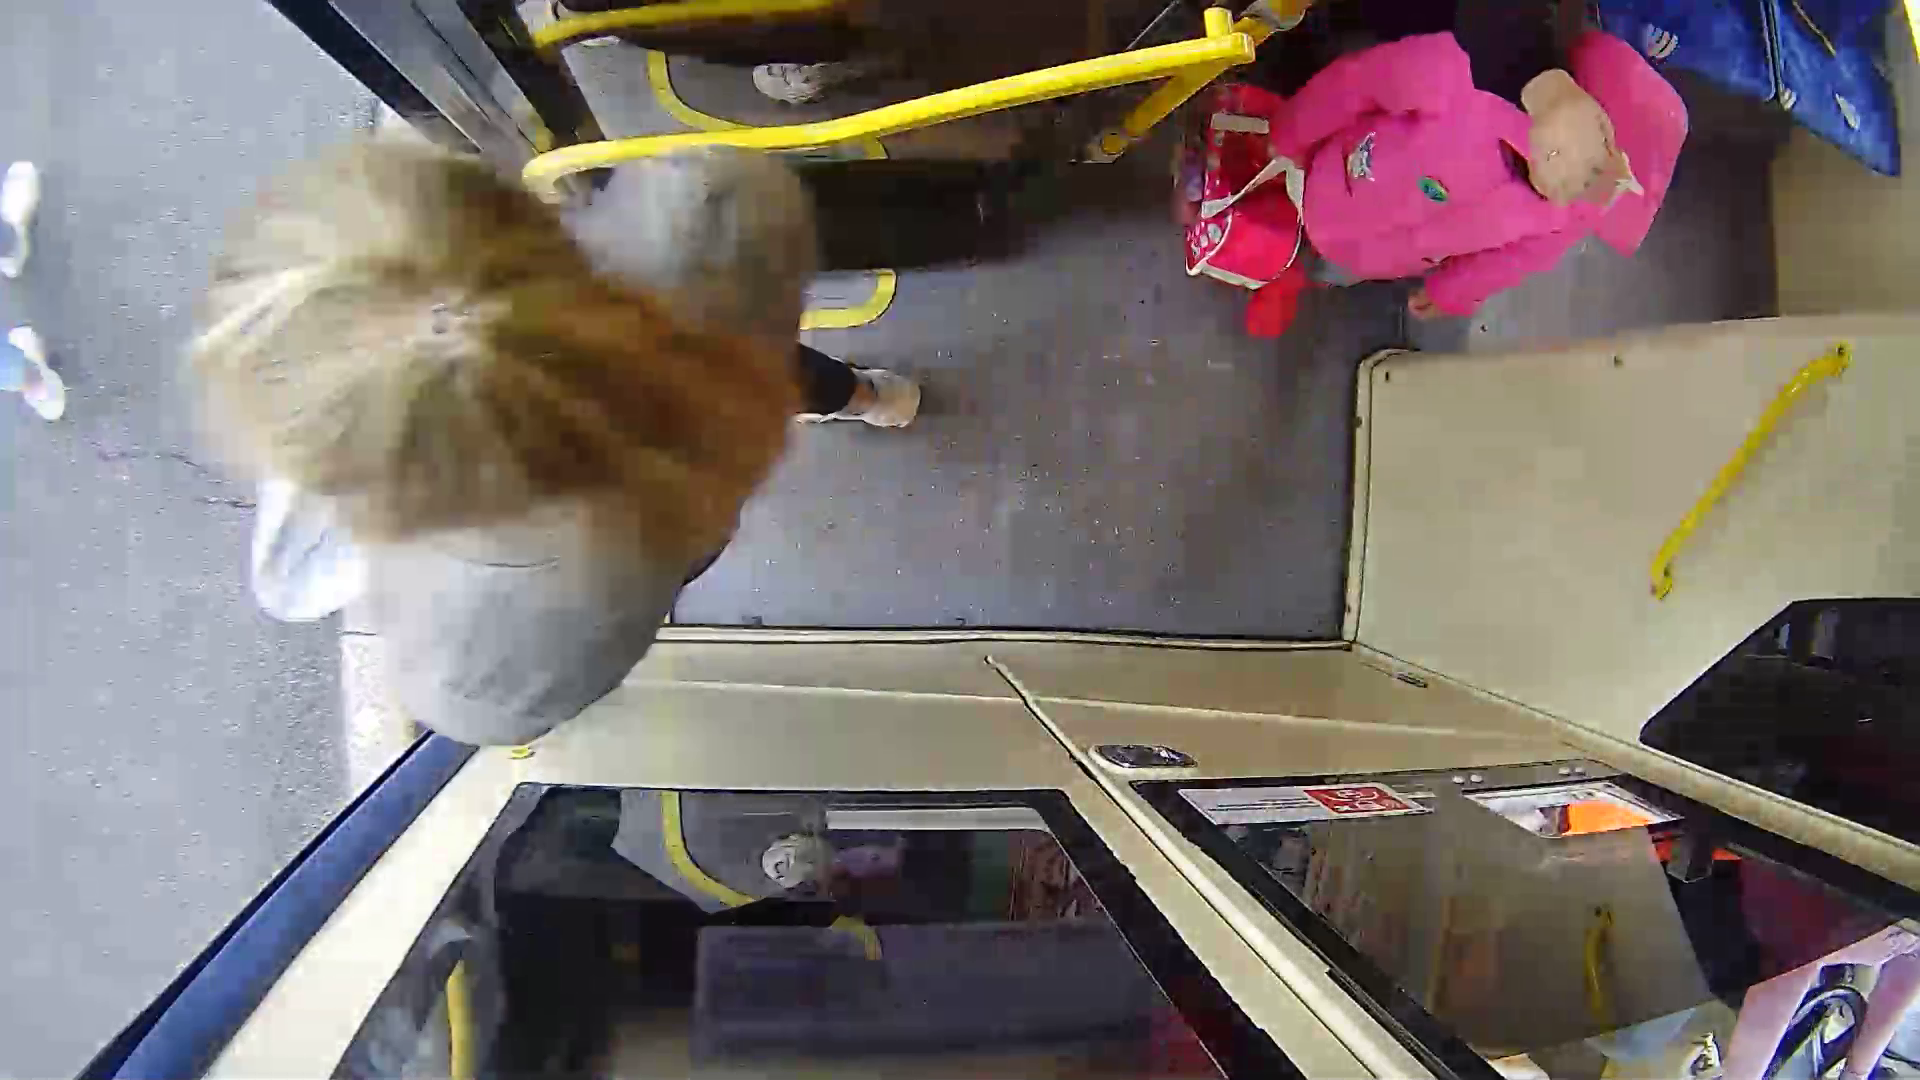person: (218, 114, 941, 723)
